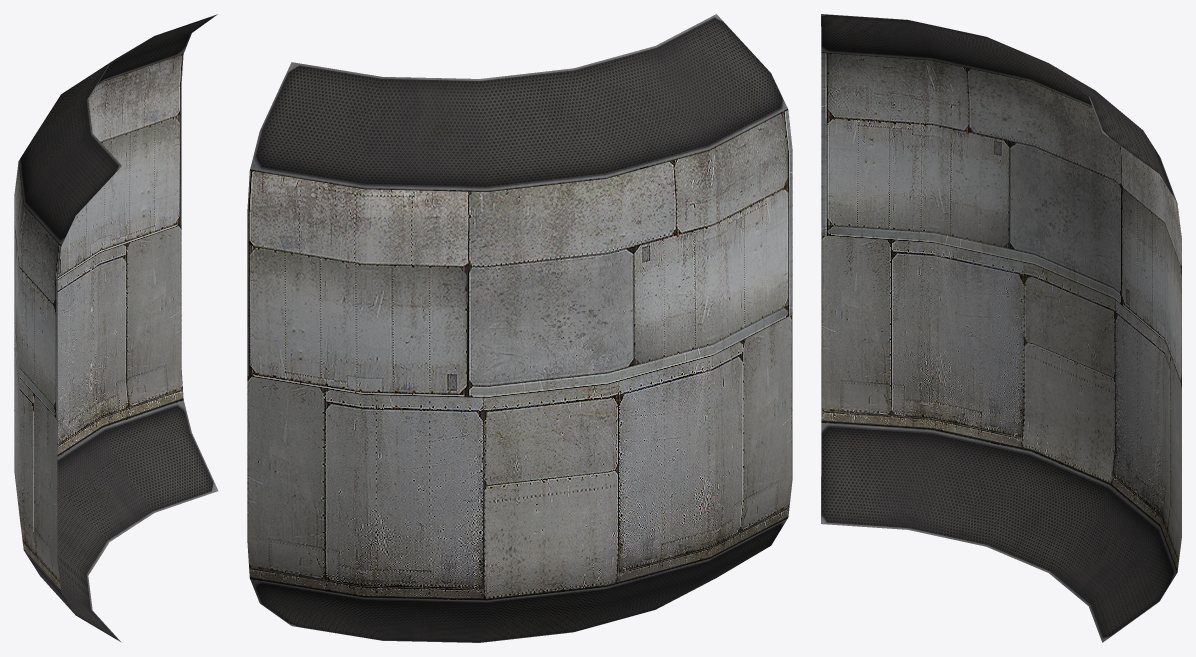
The model's file is Wall_B_Mid4mts_037.fbx.
3 views of the same model, side by side, from view 1: azimuth 30°, elevation 25°; view 2: azimuth 150°, elevation 25°; view 3: azimuth 270°, elevation 25° (orthographic). The views are drawn at different scales.
Parts seen in each view (by area): view 1: Wall_B_Mid4mts_037; view 2: Wall_B_Mid4mts_037; view 3: Wall_B_Mid4mts_037.
Boxes of the visible parts, x1,y1,x2,y2 form: Wall_B_Mid4mts_037: [14, 14, 218, 642]; Wall_B_Mid4mts_037: [247, 14, 792, 642]; Wall_B_Mid4mts_037: [821, 14, 1181, 642].
Size of the model in its own units: 257 by 400 by 257.
